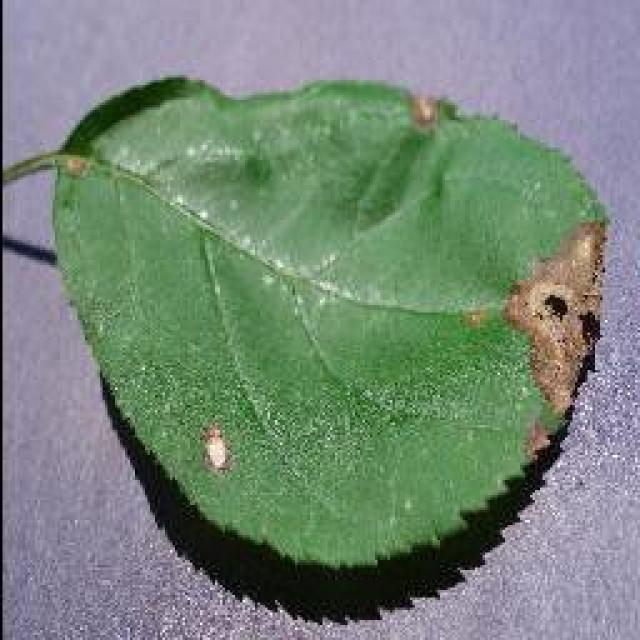Black_rot: (18, 72, 612, 620)
